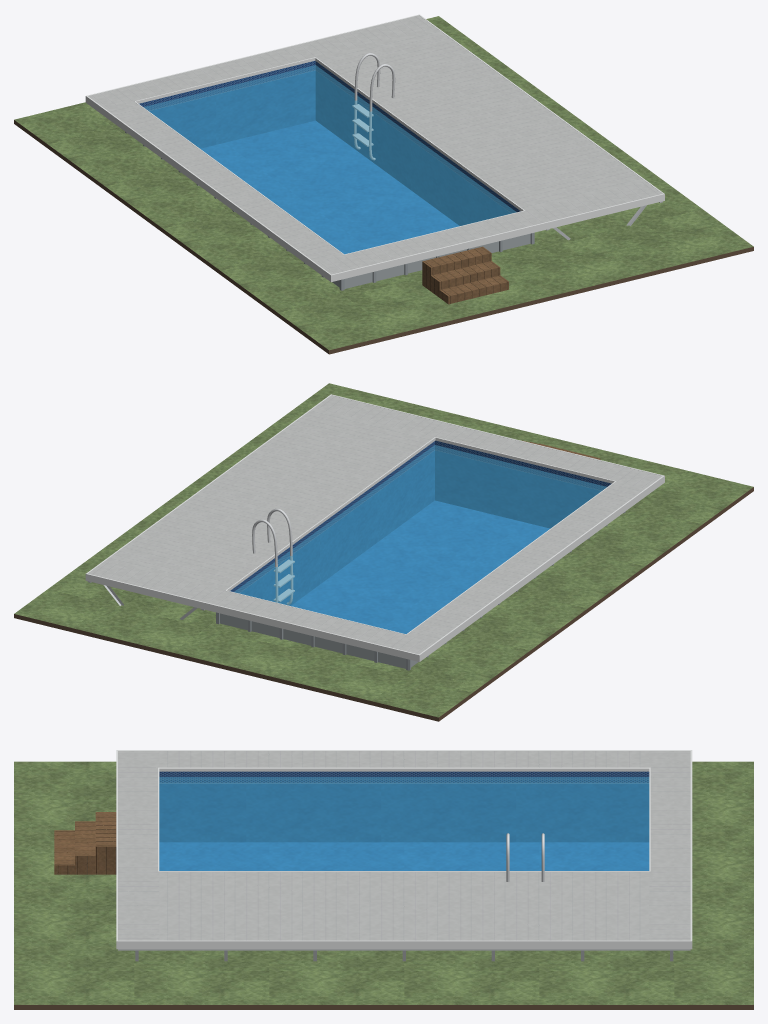
File: kayak-pool-12x24-gray-side-rec-nofence.a53af91d56.glb
3 views of the same model, one above another, from view 1: azimuth 30°, elevation 25°; view 2: azimuth 150°, elevation 25°; view 3: azimuth 270°, elevation 25° (orthographic). The views are drawn at different scales.
Visible parts, largest first — view 1: ground, deck, water, liner_wall, liner_floor, fascia, soil, steps, wall, steel; view 2: ground, deck, water, liner_wall, liner_floor, fascia, soil, wall, steel; view 3: ground, deck, water, liner_wall, liner_floor, fascia, soil, steps, stud.
Part boxes in pixels (<box>): ground: <box>14,16,753,350</box>; deck: <box>88,15,662,274</box>; water: <box>143,65,516,254</box>; liner_wall: <box>139,61,520,225</box>; liner_floor: <box>201,120,459,254</box>; fascia: <box>85,14,664,282</box>; soil: <box>14,120,753,354</box>; steps: <box>422,246,508,304</box>; wall: <box>332,233,530,288</box>; steel: <box>352,53,395,160</box>; ground: <box>14,383,753,717</box>; deck: <box>88,395,662,654</box>; water: <box>234,445,606,633</box>; liner_wall: <box>230,440,611,605</box>; liner_floor: <box>291,500,549,633</box>; fascia: <box>85,394,664,661</box>; soil: <box>14,487,753,721</box>; wall: <box>220,613,417,668</box>; steel: <box>252,508,294,604</box>; ground: <box>14,761,753,1004</box>; deck: <box>118,751,690,940</box>; water: <box>159,777,649,870</box>; liner_wall: <box>159,771,649,842</box>; liner_floor: <box>159,842,649,870</box>; fascia: <box>116,750,692,949</box>; soil: <box>14,1005,753,1009</box>; steps: <box>54,812,116,874</box>; stud: <box>118,949,690,961</box>.
Bounding box in the file's own units: 8.53 × 1.9 × 10.97.
12 materials, 5 textured.
